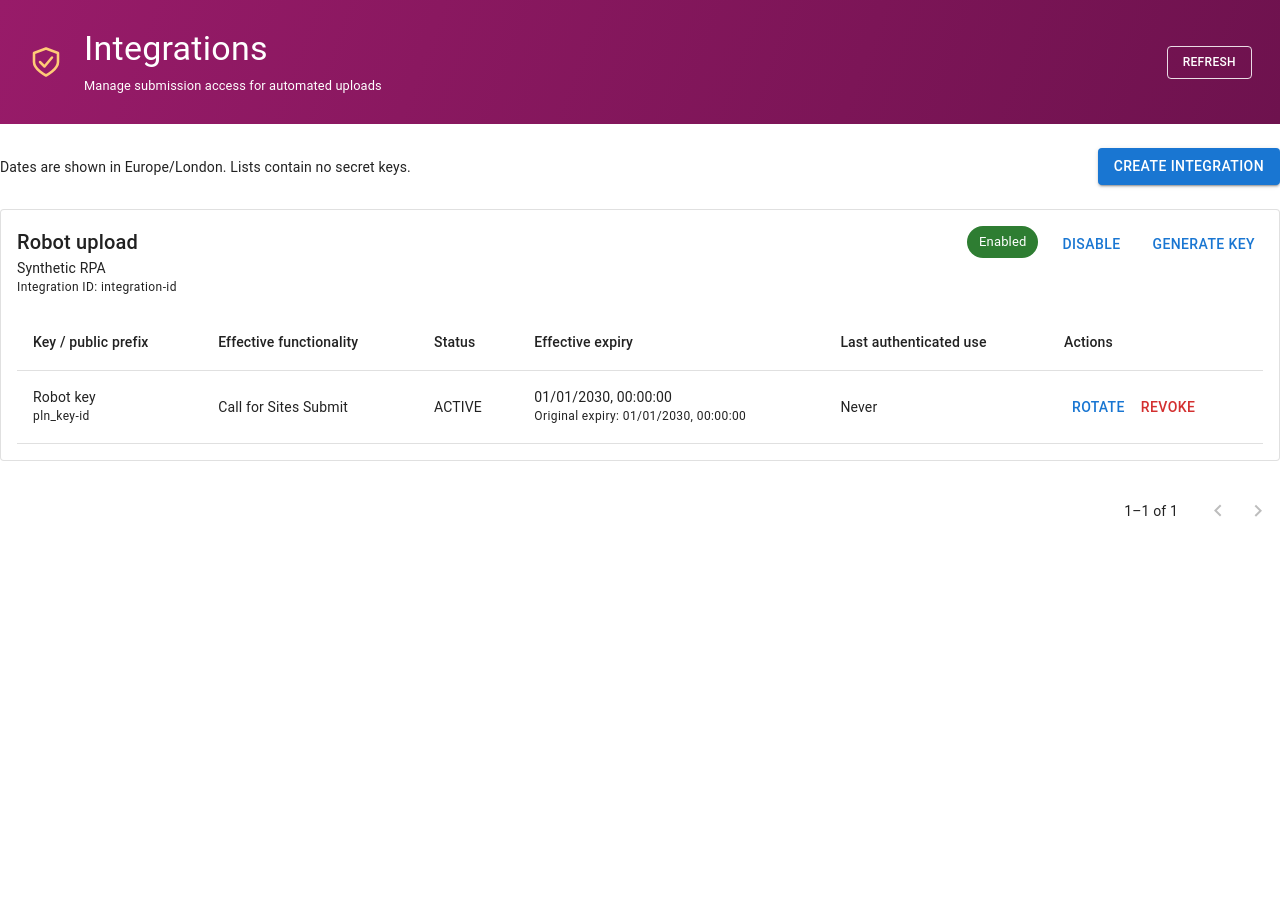
Test case: integration administration › validates label, safe scope and future expiry before generating
Expected: the heading "Robot upload" is shown, [17,230,138,254]
Click the button with aria-label "Generate key for Robot upload": (1204, 244) [1144,226,1263,262]
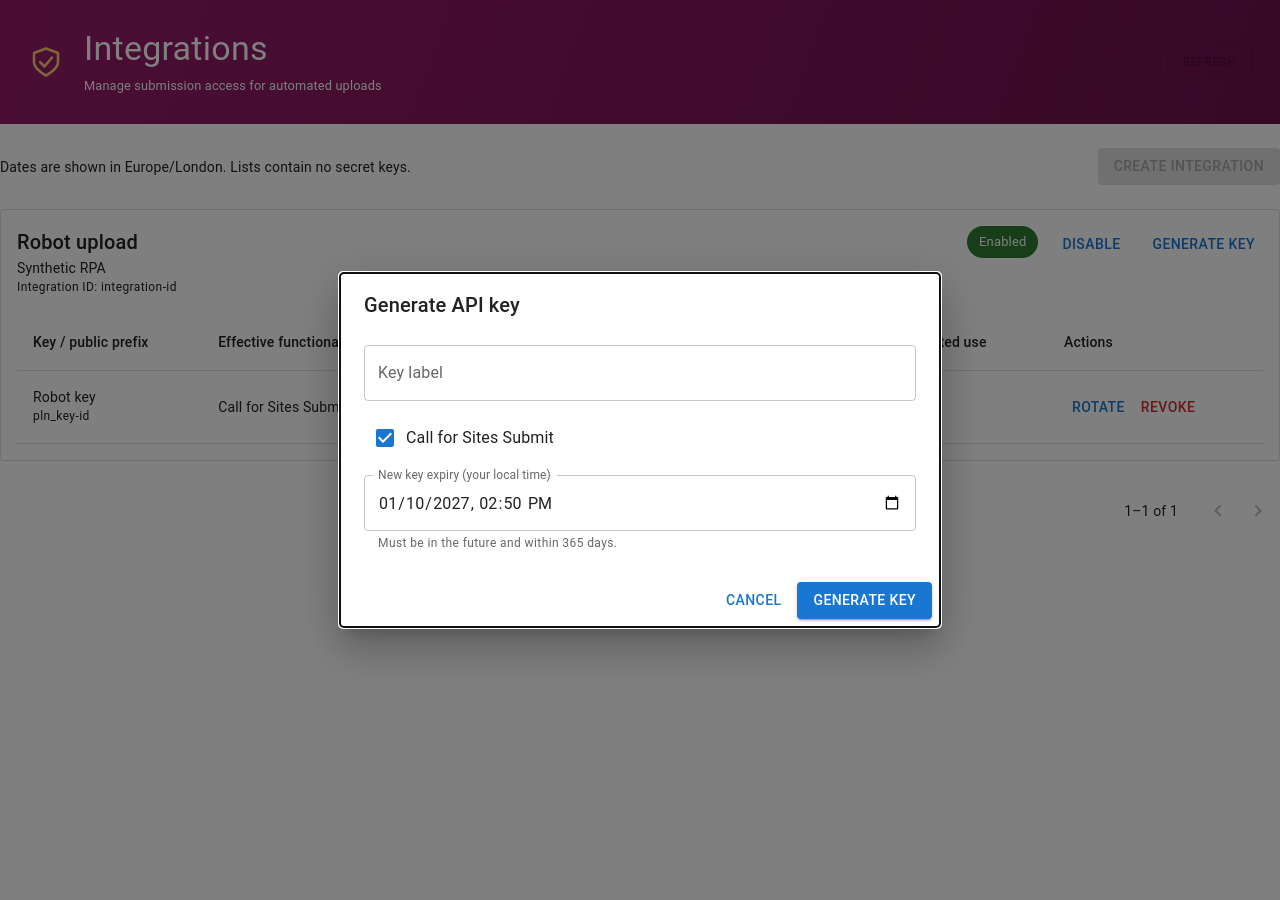
Click the button "Generate key": (865, 600) [798,582,932,619]
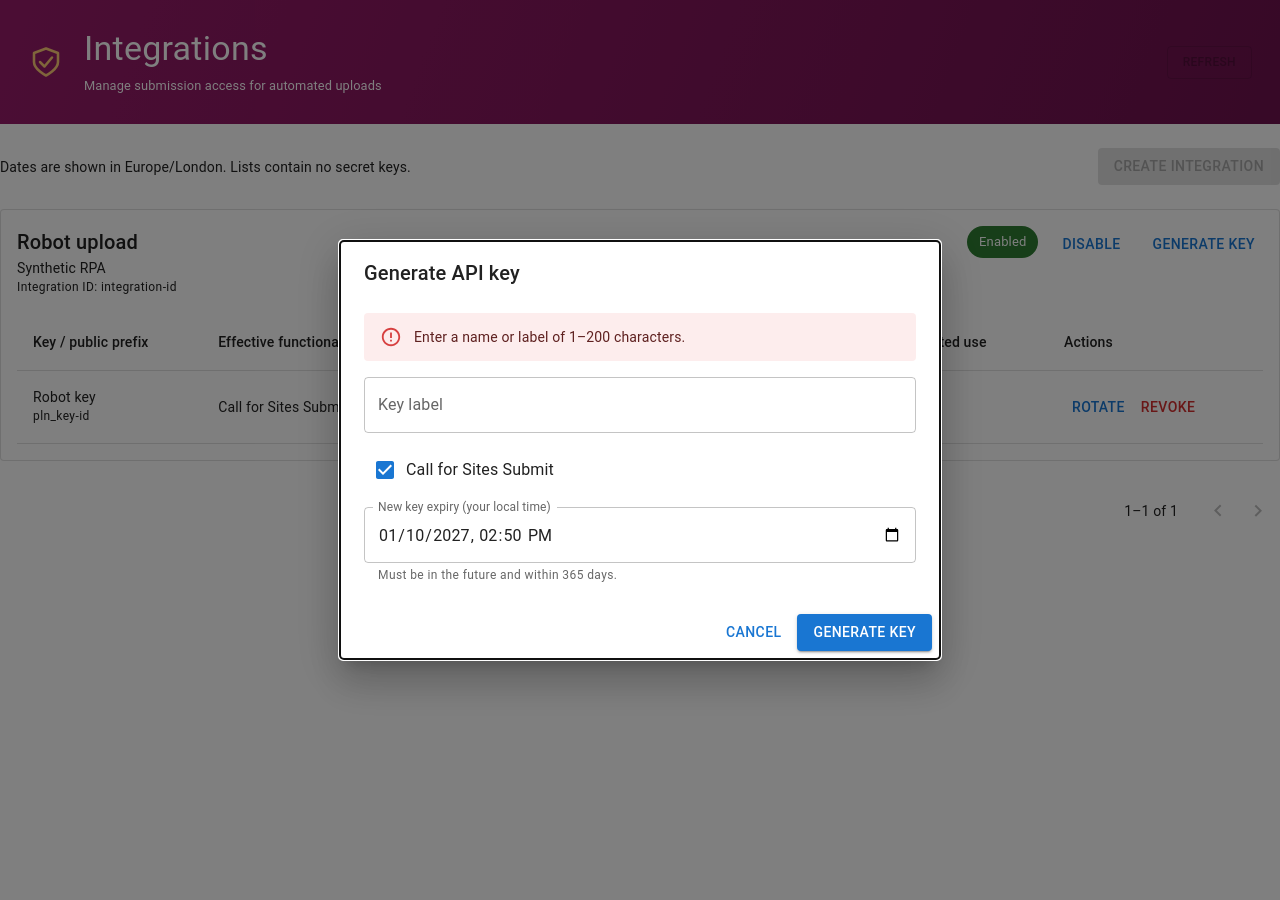
Expected: the message shows "Enter a name or label", [414,329,685,345]
In the field labelled "Key label": (640, 405) [364,377,916,433], type "Robot"
Click the checkbox labelled "Call for Sites Submit": (463, 470) [373,458,554,482]
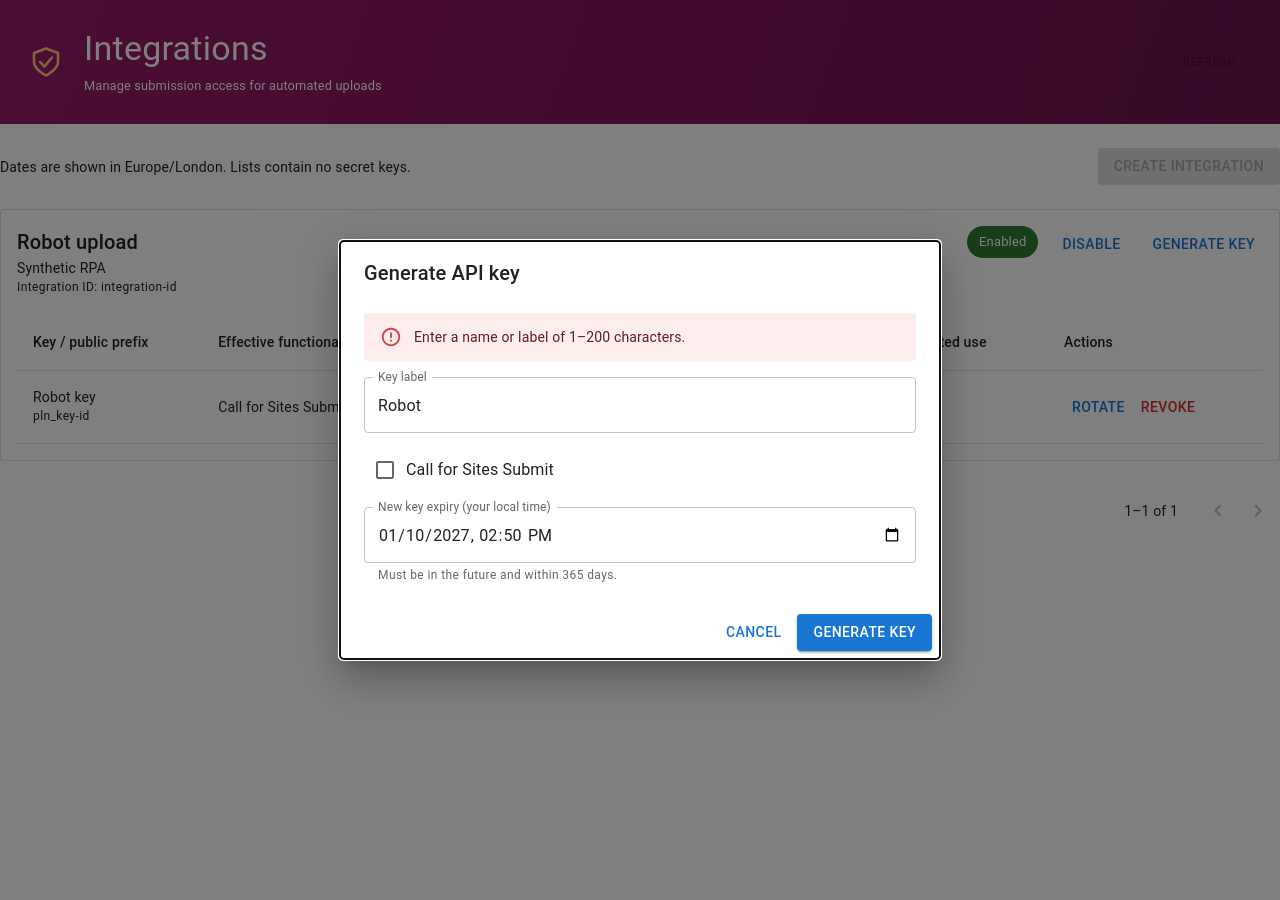
Click the button "Generate key": (865, 632) [798,614,932,651]
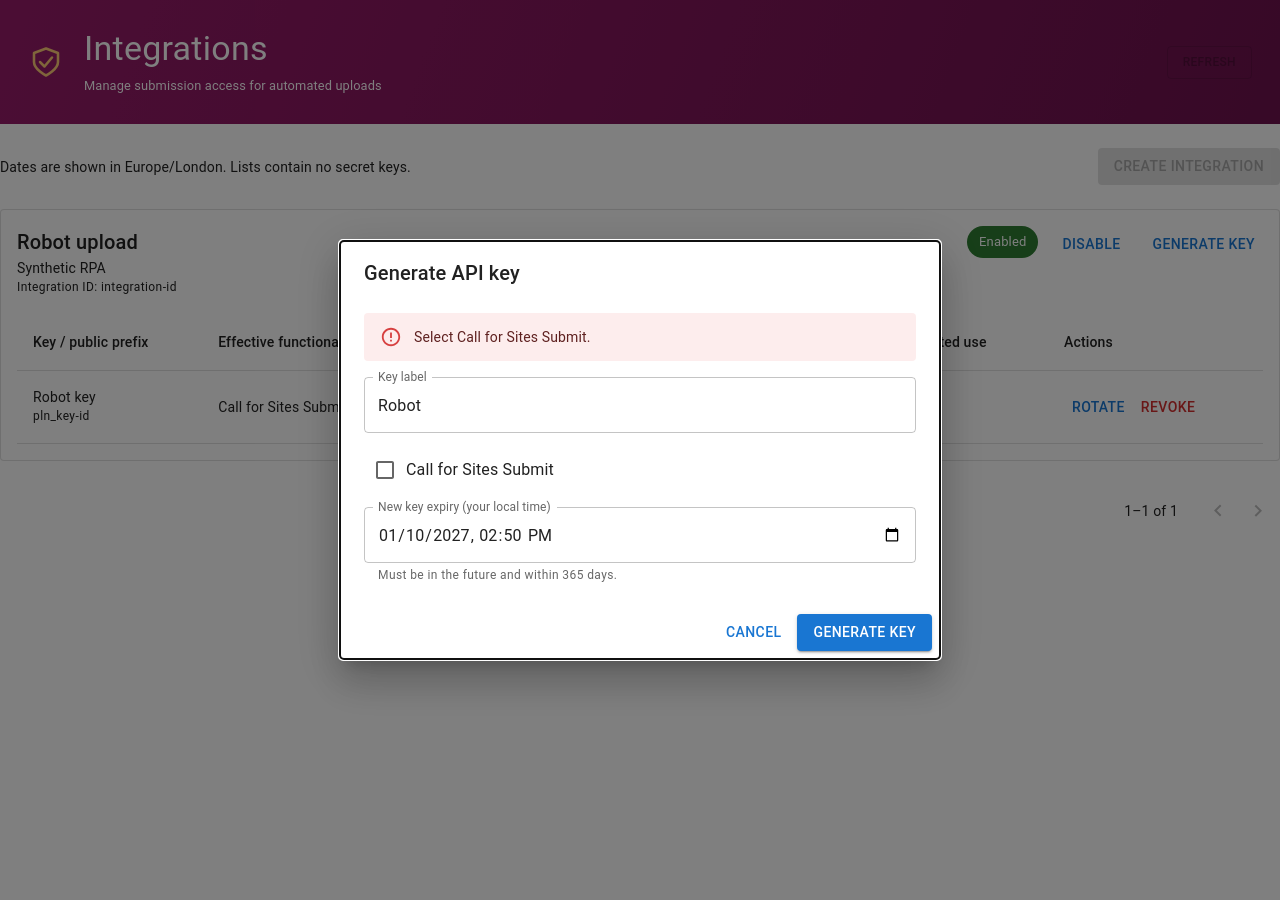
Expected: the message shows "Select Call for Sites Submit", [414,329,591,345]
Click the checkbox labelled "Call for Sites Submit": (463, 470) [373,458,554,482]
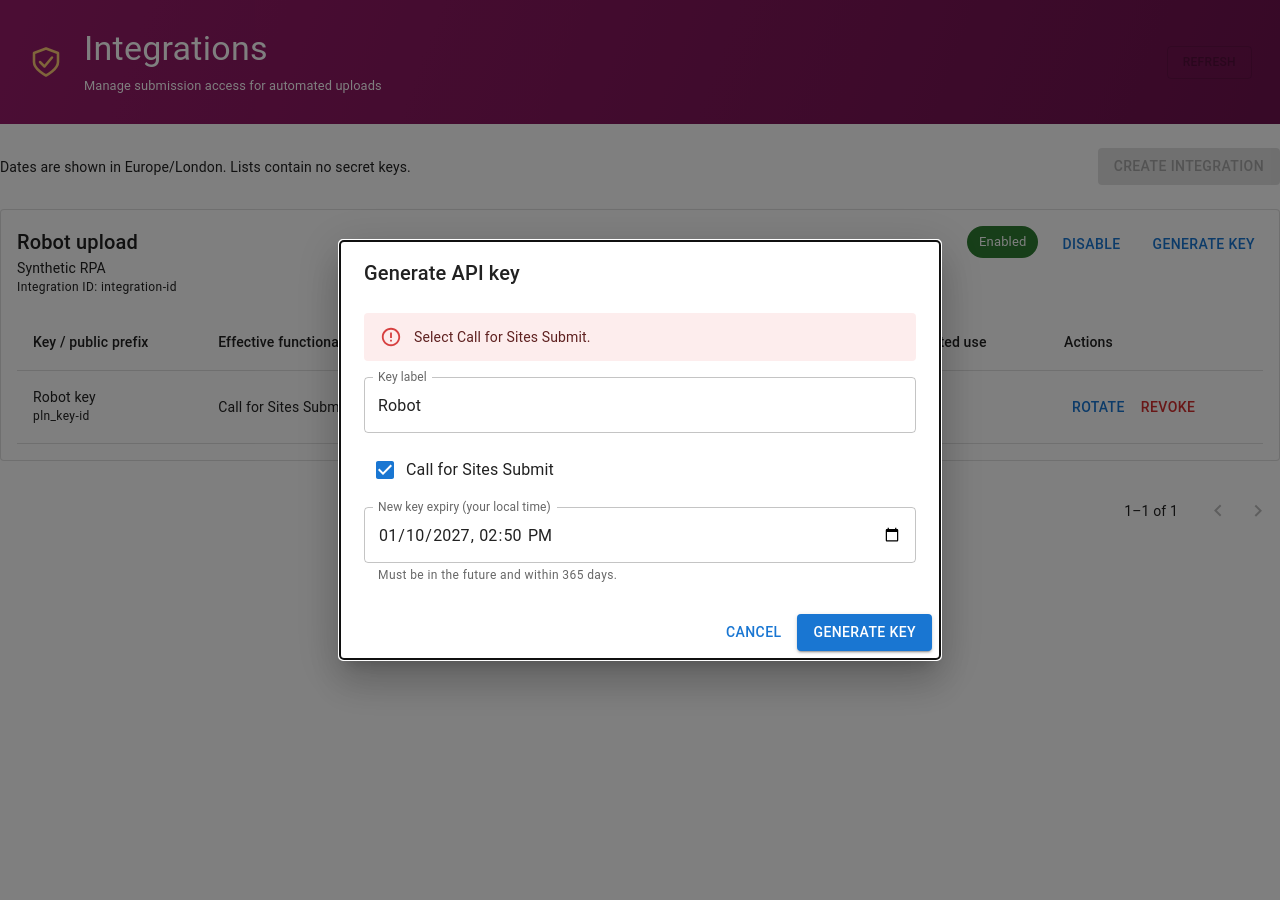
Replace the text in the field labelled "New key expiry (your local time)" with "2000-01-01T00:00": (640, 535) [364,507,916,563]
Click the button "Generate key": (865, 632) [798,614,932,651]
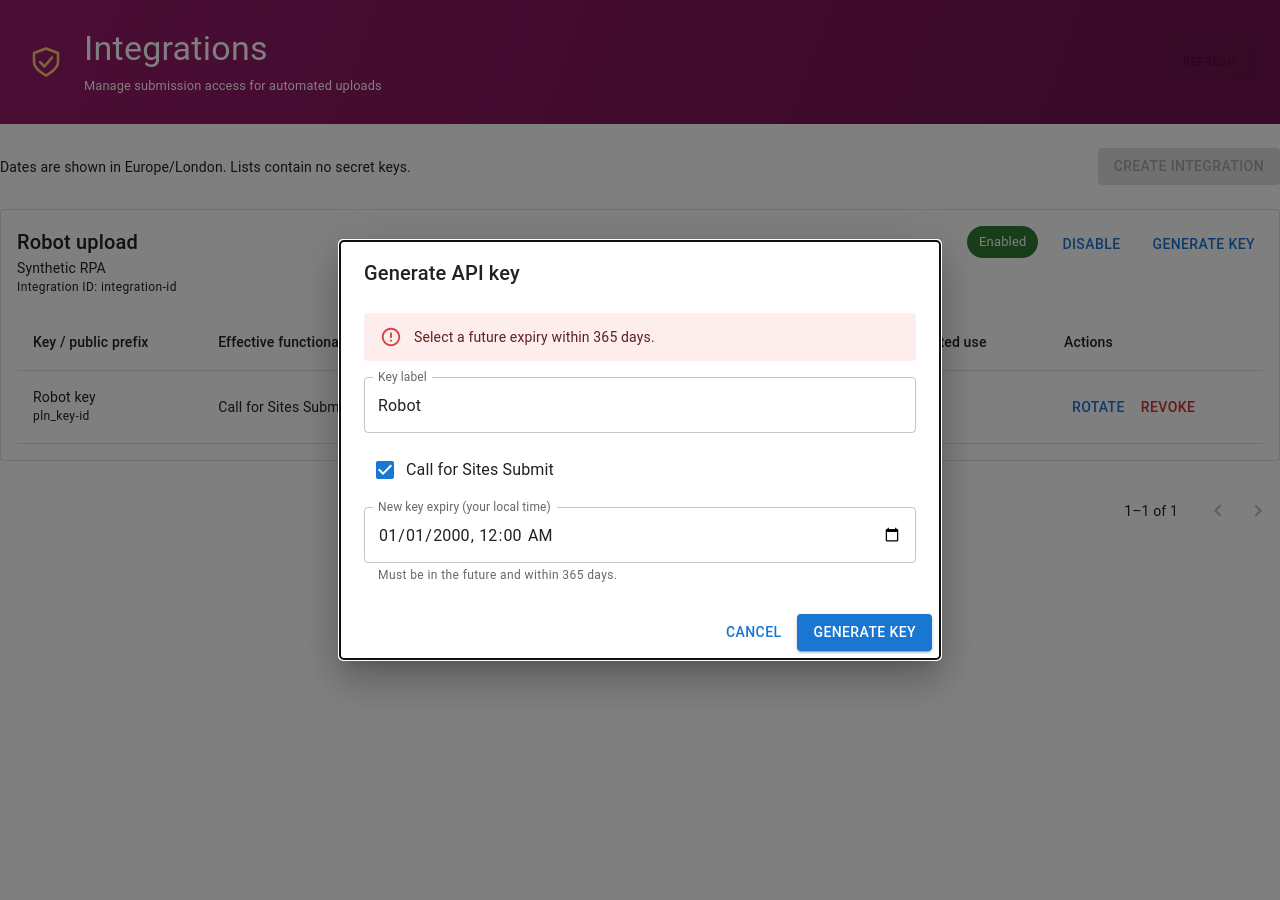
Expected: the message shows "Select a future expiry", [414,329,655,345]
